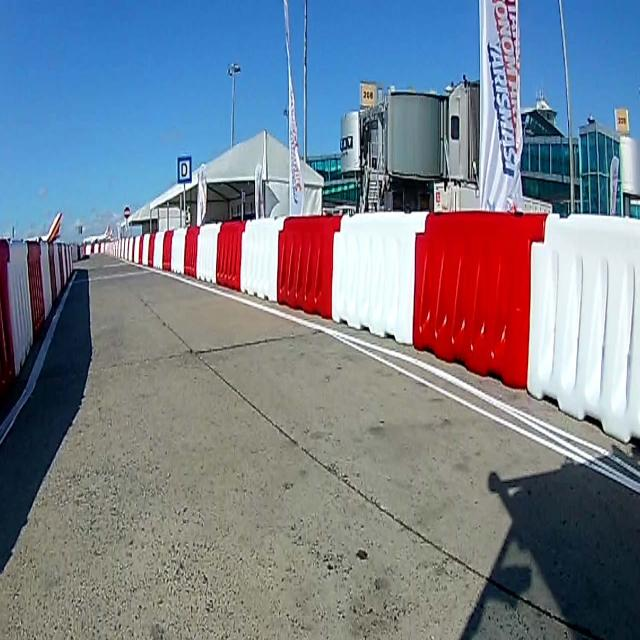durak: (176, 156, 192, 184)
girisyok: (123, 206, 131, 220)
